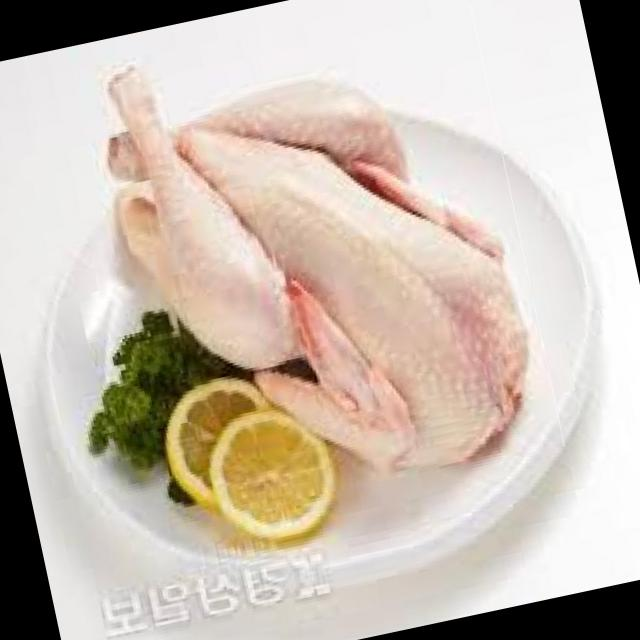chicken: (86, 4, 564, 528)
